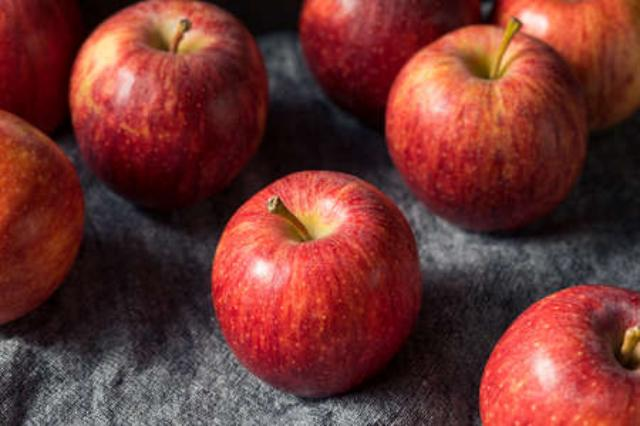Apples: (214, 170, 422, 394), (388, 24, 588, 228), (72, 0, 266, 196), (480, 285, 640, 426)
